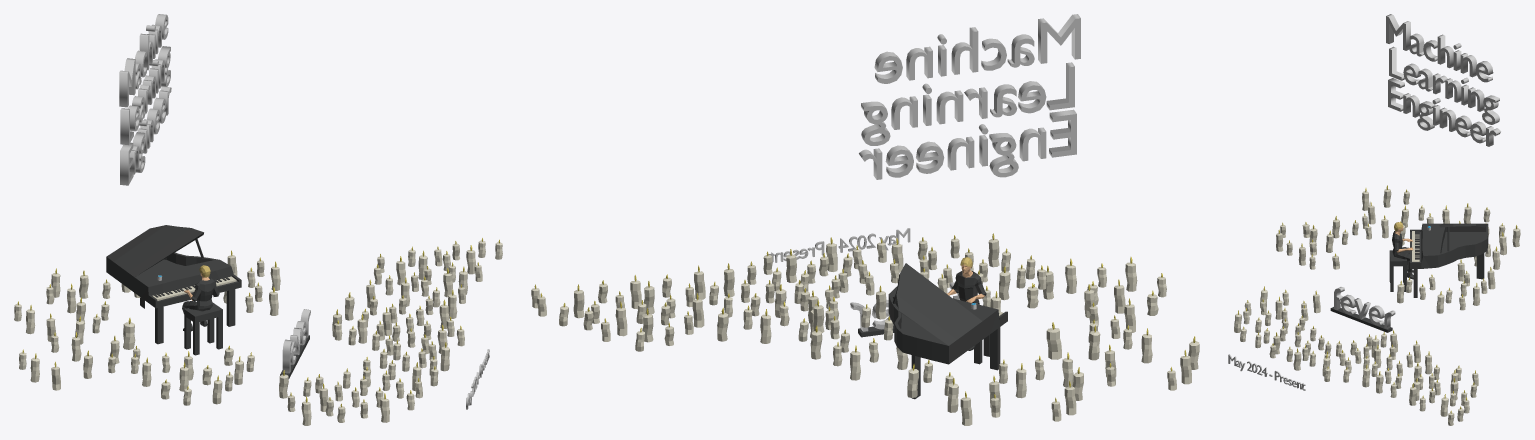
File: candle.glb
3 views of the same model, side by side, from view 1: azimuth 30°, elevation 25°; view 2: azimuth 150°, elevation 25°; view 3: azimuth 270°, elevation 25° (orthographic). The views are drawn at different scales.
Parts seen in each view (by area): view 1: Cube.003, Text, Cube.001, male, Text.002; view 2: Text, Cube.003, male, Text.001; view 3: Text, Cube.003, Text.002, male, Text.001, Cube.001, Cube.
Part boxes in pixels (<box>): Cube.003: <box>106,225,241,344</box>; Text: <box>119,14,171,185</box>; Cube.001: <box>184,302,222,355</box>; male: <box>182,265,219,331</box>; Text.002: <box>282,309,310,373</box>; Text: <box>859,14,1080,179</box>; Cube.003: <box>888,263,1007,399</box>; male: <box>946,257,986,350</box>; Text.001: <box>768,228,910,262</box>; Text: <box>1386,14,1500,146</box>; Cube.003: <box>1410,223,1488,297</box>; Text.002: <box>1334,287,1395,328</box>; male: <box>1392,222,1413,279</box>; Text.001: <box>1228,354,1305,390</box>; Cube.001: <box>1389,250,1406,291</box>; Cube: <box>1330,307,1392,332</box>.
Bounding box in the file's own units: 7.47 × 4.55 × 4.67.
